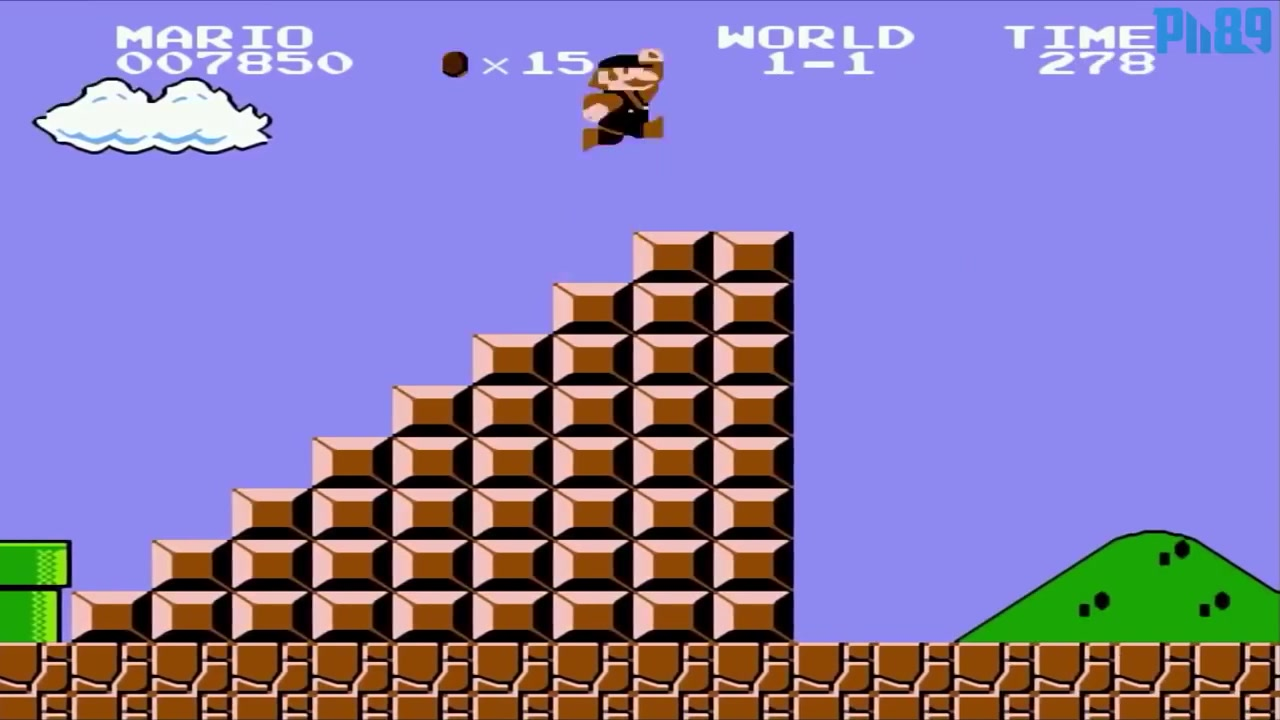mario: (570, 48, 700, 154)
